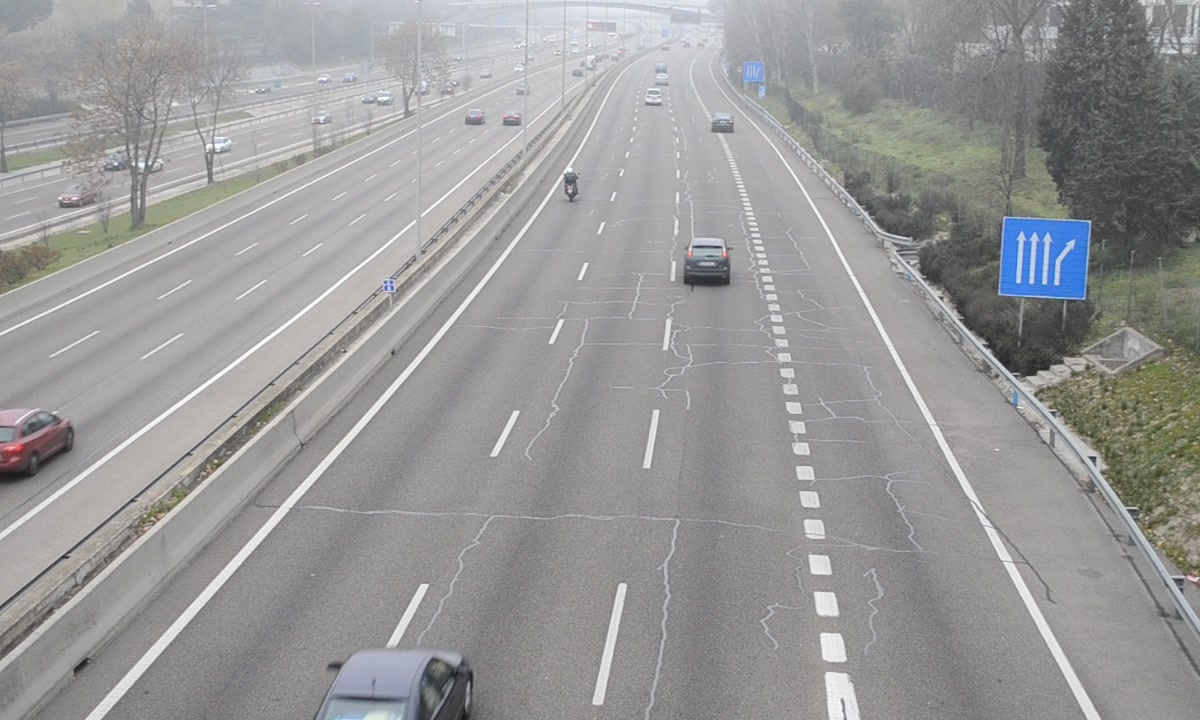car: (316, 647, 469, 717), (684, 237, 732, 286), (711, 113, 732, 134), (646, 88, 662, 107)
motorcycle: (561, 168, 579, 203)
